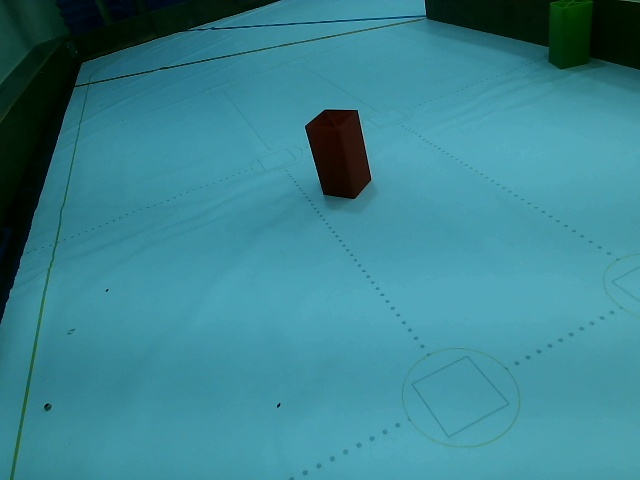red: (310, 115, 372, 195)
